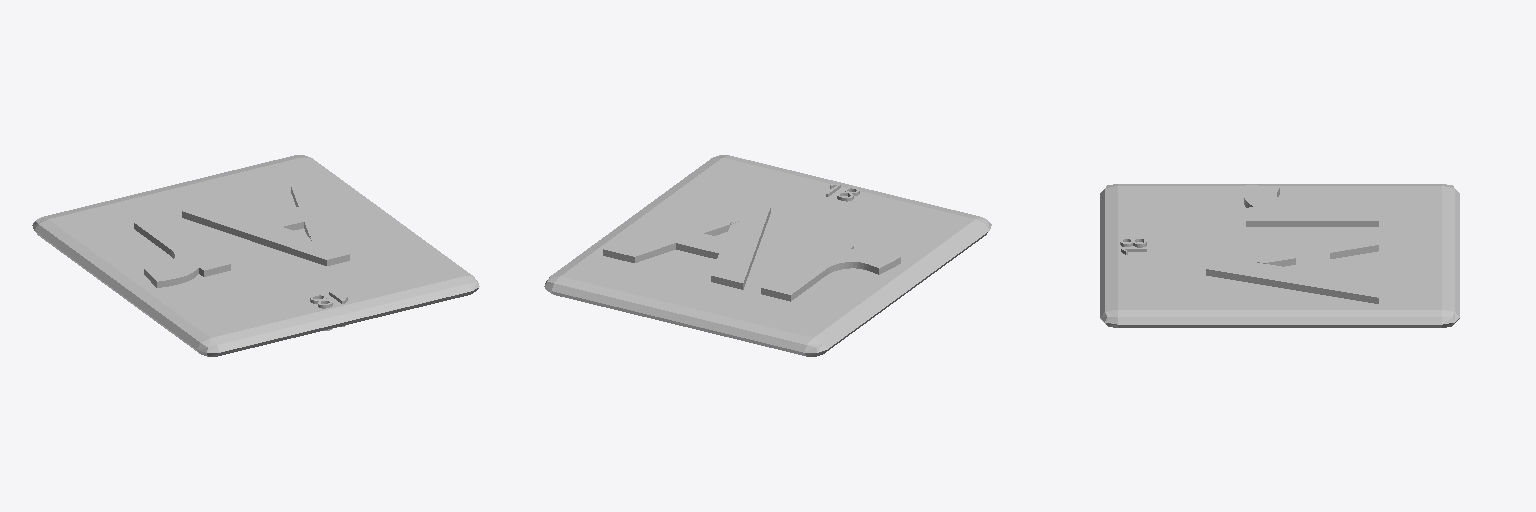
3 views of the same model, side by side, from view 1: azimuth 30°, elevation 25°; view 2: azimuth 150°, elevation 25°; view 3: azimuth 270°, elevation 25° (orthographic).
Visible parts, largest first — view 1: 154_Box_3, 152_Ar_-_A, 153_Ar_-_r; view 2: 154_Box_3, 152_Ar_-_A, 153_Ar_-_r; view 3: 154_Box_3, 152_Ar_-_A, 153_Ar_-_r.
Part boxes in pixels (x1,y1,x2,y2): 154_Box_3: (32, 155, 479, 356); 152_Ar_-_A: (182, 177, 349, 265); 153_Ar_-_r: (134, 215, 230, 287); 154_Box_3: (544, 155, 991, 356); 152_Ar_-_A: (603, 201, 770, 289); 153_Ar_-_r: (761, 239, 900, 301); 154_Box_3: (1100, 184, 1459, 327); 152_Ar_-_A: (1206, 229, 1378, 303); 153_Ar_-_r: (1244, 185, 1378, 226).
Bounding box in the file's own units: 9 × 0.9 × 10.